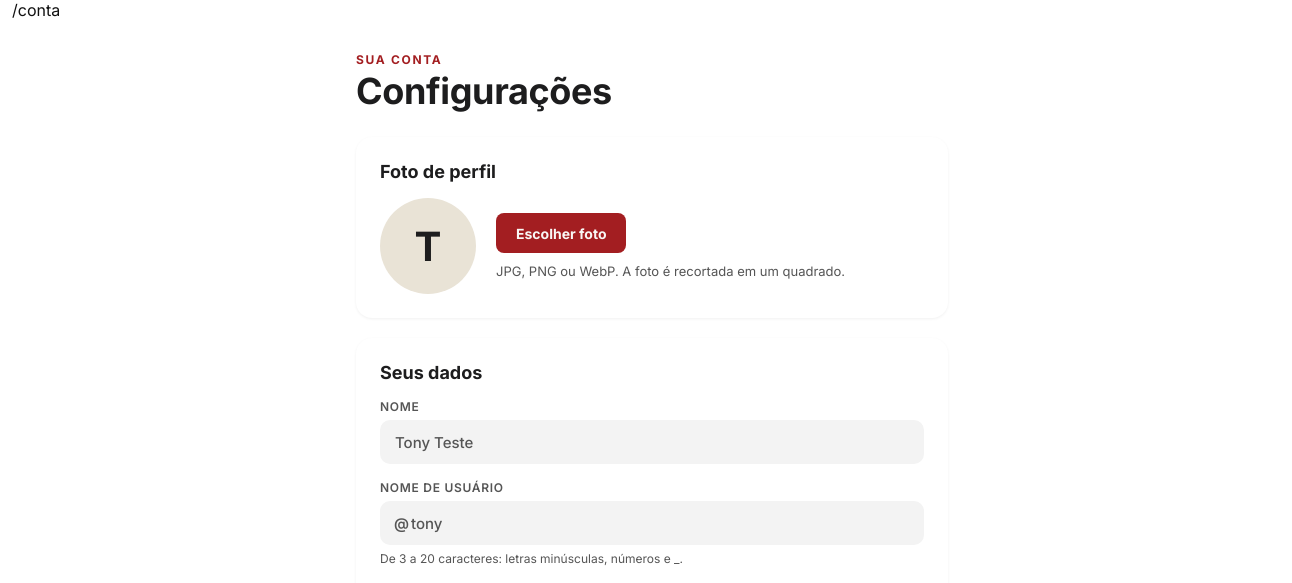
Test: Configurações: seus dados › confere o @username antes de enviar
This screenshot has width=1292, height=583.
Replace the text in the field labelled "Nome de usuário" with "ab" at (652, 523), box [380,501,924,545]
(page scrolled)
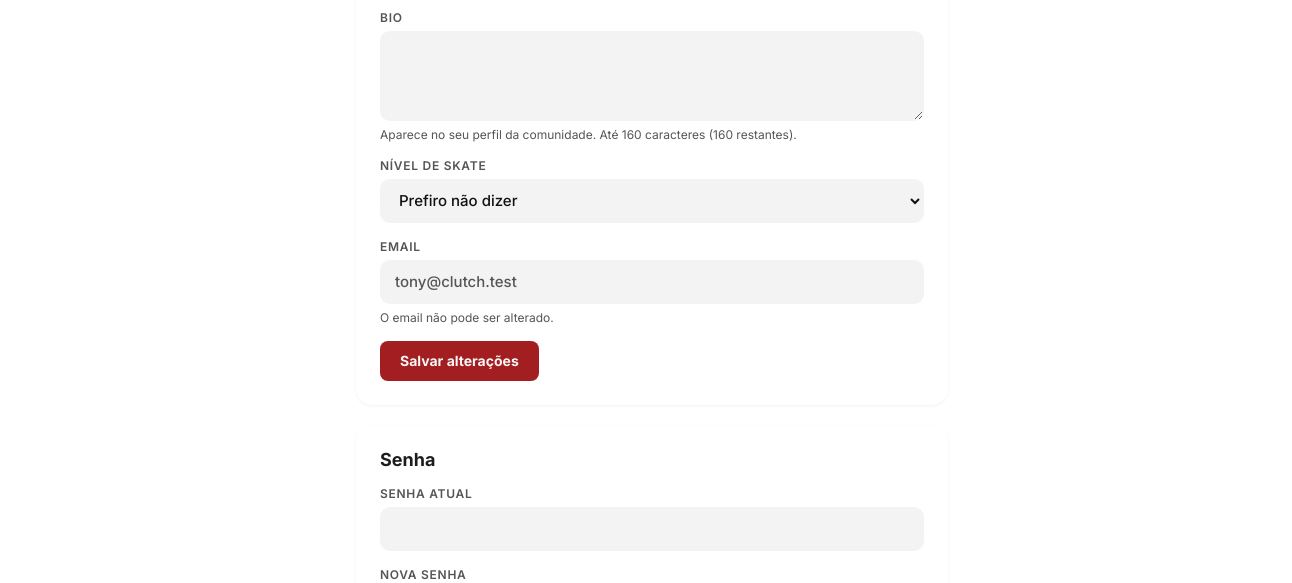
Click the button "Salvar alterações" at (459, 360), box [380,340,539,380]
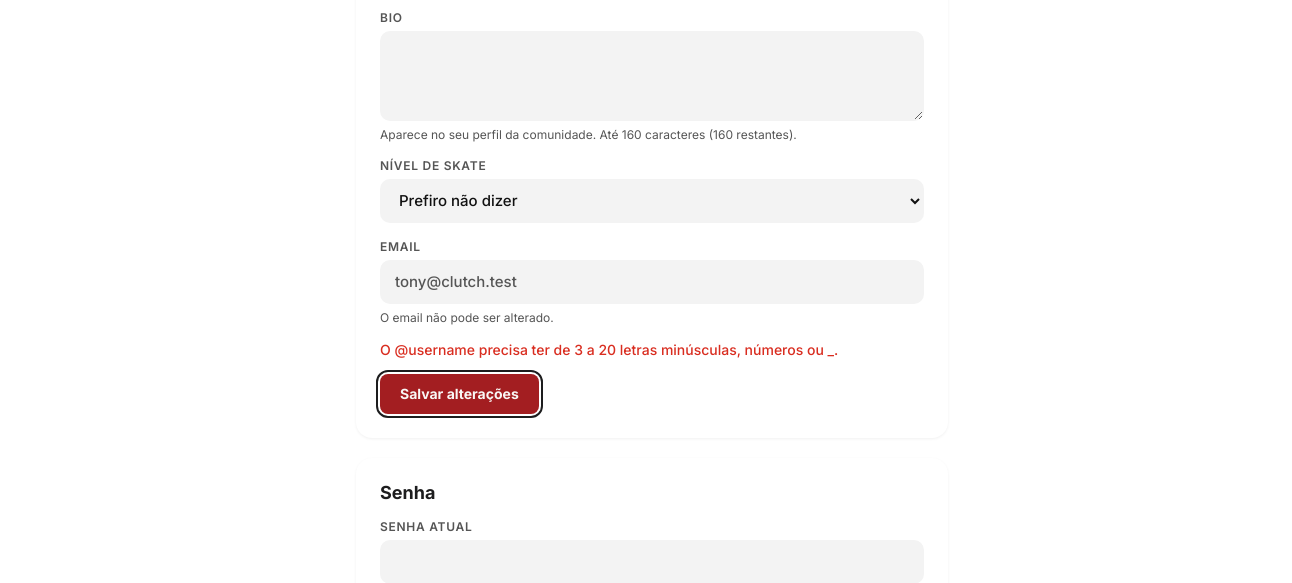
Now the message shows "de 3 a 20 letras minúsculas", box [380,340,838,358]
